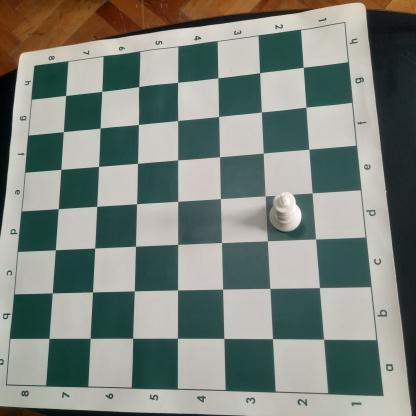white-king: (268, 191, 304, 234)
